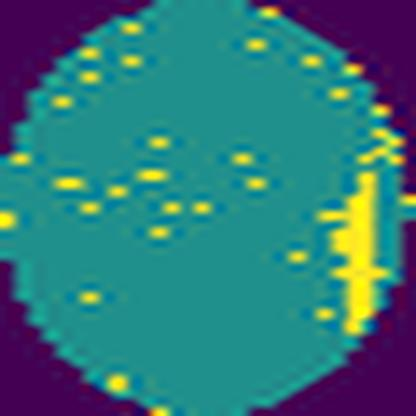Scratch: (312, 168, 396, 340)
